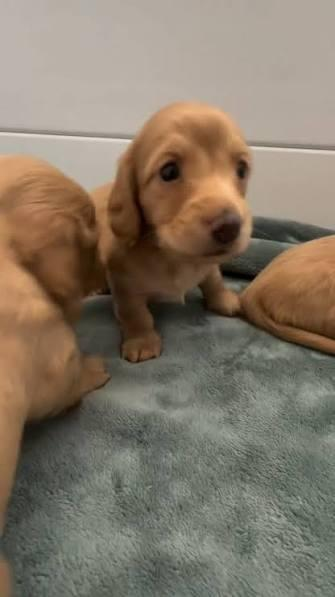puppy-dog: (86, 102, 255, 363), (0, 153, 112, 533), (239, 234, 335, 356)
